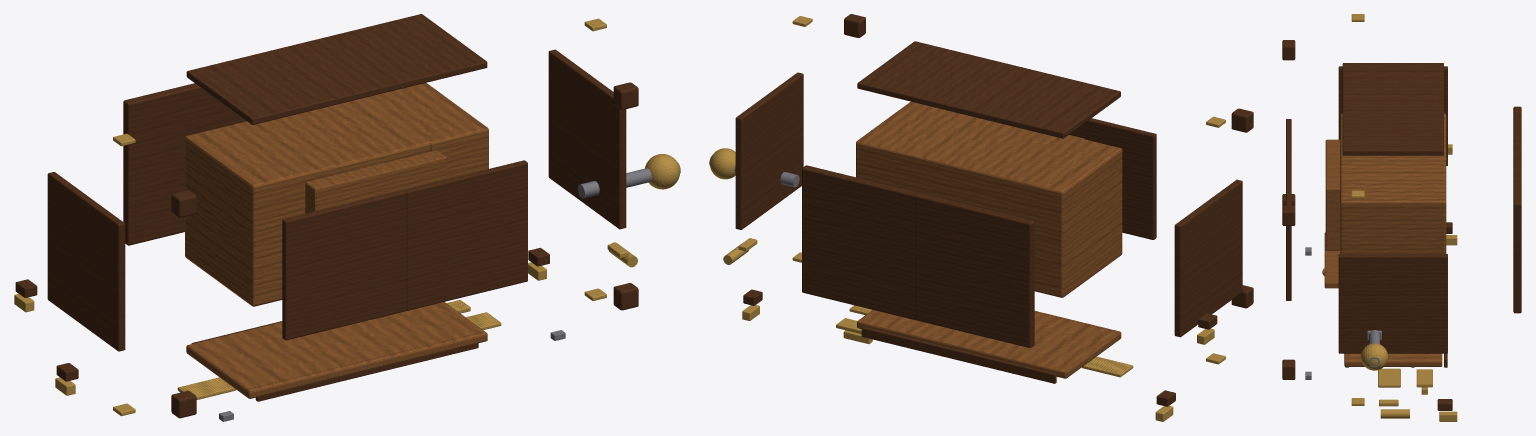
Rendered from bandaji.glb.
The picture shows the model from 3 angles, left to right: view 1: azimuth 30°, elevation 25°; view 2: azimuth 150°, elevation 25°; view 3: azimuth 270°, elevation 25°; orthographic projection. The views are drawn at different scales.
Visible parts, largest first — view 1: Body, Bottom, BackPanel, FrontBoard, TopRail, SidePlank_L, SidePlank_R, DrawerBox, FrontPlank_0, HandleKnob, BrassPlateL, HandleBar (+4 smaller); view 2: TopRail, Body, BackPanel, SidePlank_L, SidePlank_R, FrontBoard, Bottom, FrontPlank_3, HandleKnob, BrassPlateL; view 3: Body, SidePlank_R, BackPanel, TopRail, DrawerBox, FrontBoard, Bottom, DrawerFace, SidePlank_L, HandleKnob, BrassPlateR, LatchPlate (+4 smaller).
Part boxes in pixels (x1=…): Body: x1=185, y1=83, x2=488, y2=306; Bottom: x1=282, y1=160, x2=527, y2=340; BackPanel: x1=186, y1=14, x2=487, y2=124; FrontBoard: x1=186, y1=302, x2=487, y2=398; TopRail: x1=123, y1=83, x2=246, y2=245; SidePlank_L: x1=47, y1=172, x2=125, y2=351; SidePlank_R: x1=548, y1=49, x2=626, y2=229; DrawerBox: x1=305, y1=150, x2=446, y2=213; FrontPlank_0: x1=255, y1=343, x2=478, y2=401; HandleKnob: x1=645, y1=154, x2=680, y2=189; BrassPlateL: x1=177, y1=377, x2=236, y2=399; HandleBar: x1=577, y1=162, x2=680, y2=198; TopRail: x1=802, y1=165, x2=1034, y2=347; Body: x1=856, y1=101, x2=1122, y2=297; BackPanel: x1=857, y1=41, x2=1120, y2=138; SidePlank_L: x1=1174, y1=179, x2=1242, y2=337; SidePlank_R: x1=735, y1=72, x2=803, y2=229; FrontBoard: x1=857, y1=310, x2=1121, y2=378; Bottom: x1=1069, y1=118, x2=1156, y2=239; FrontPlank_3: x1=861, y1=326, x2=1056, y2=383; HandleKnob: x1=709, y1=148, x2=735, y2=179; BrassPlateL: x1=1082, y1=356, x2=1133, y2=377; Body: x1=1340, y1=113, x2=1446, y2=253; SidePlank_R: x1=1338, y1=254, x2=1447, y2=353; BackPanel: x1=1342, y1=63, x2=1443, y2=155; TopRail: x1=1513, y1=106, x2=1521, y2=313; DrawerBox: x1=1325, y1=139, x2=1340, y2=250; FrontBoard: x1=1344, y1=353, x2=1442, y2=366; Bottom: x1=1286, y1=119, x2=1291, y2=300; DrawerFace: x1=1324, y1=232, x2=1340, y2=288; SidePlank_L: x1=1338, y1=66, x2=1447, y2=165; HandleKnob: x1=1361, y1=343, x2=1388, y2=370; BrassPlateR: x1=1378, y1=368, x2=1400, y2=387; LatchPlate: x1=1416, y1=369, x2=1432, y2=387.
Size of the model in its own units: 1.67 by 0.798 by 0.7325.
Materials: 6 (5 with a texture image).
